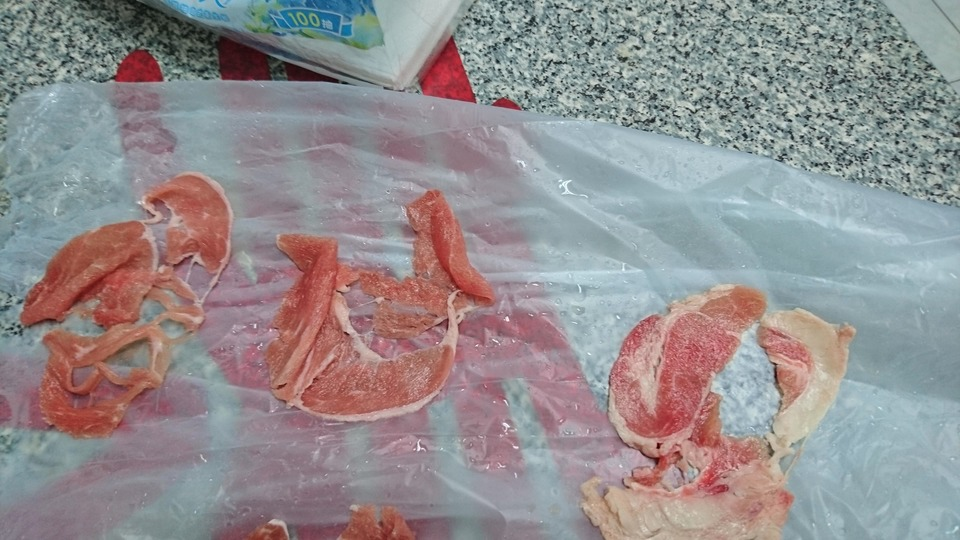restructured meat: (582, 283, 858, 540), (262, 188, 502, 428), (20, 171, 235, 430)
